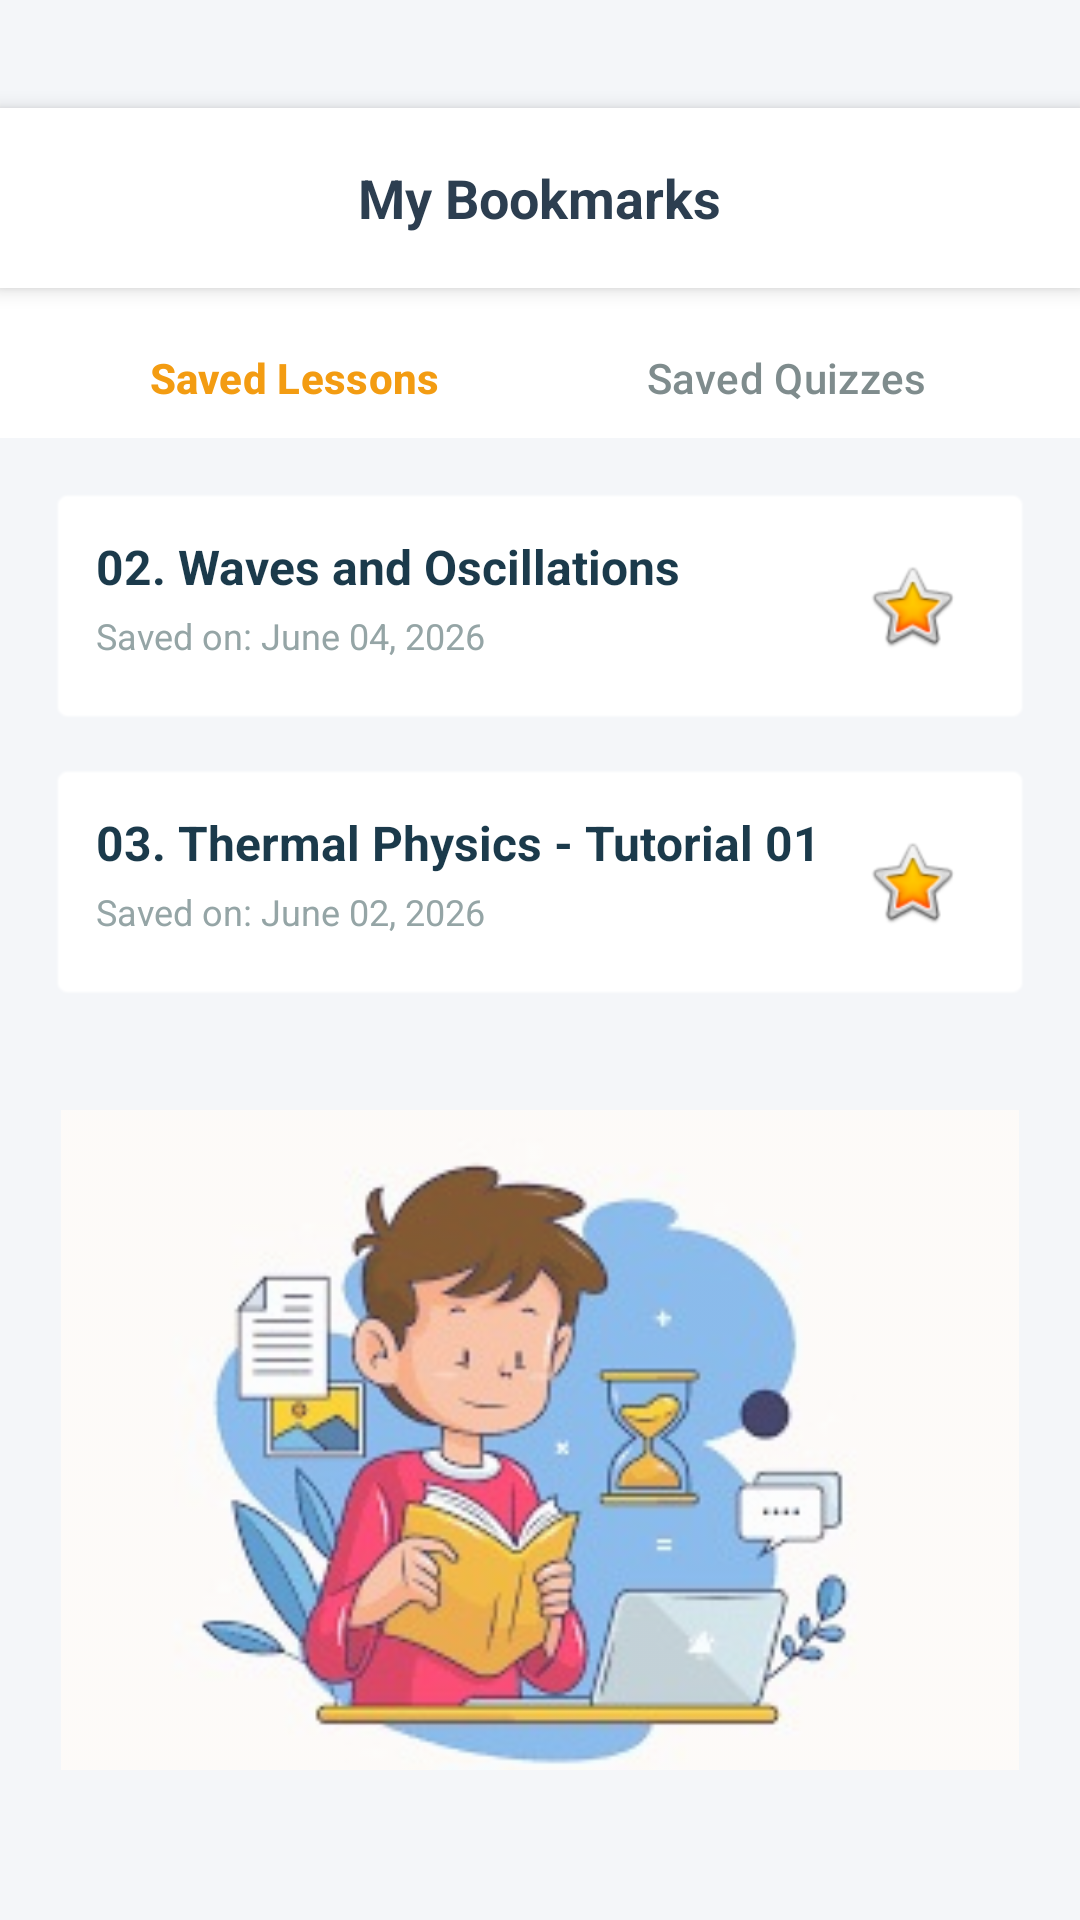

Named icons in this screenshot (1080 × 1920) and their bounding boxes, (x1, y1, x2, y2):
Remove Bookmark: (873, 568, 953, 646), (873, 844, 953, 922)
